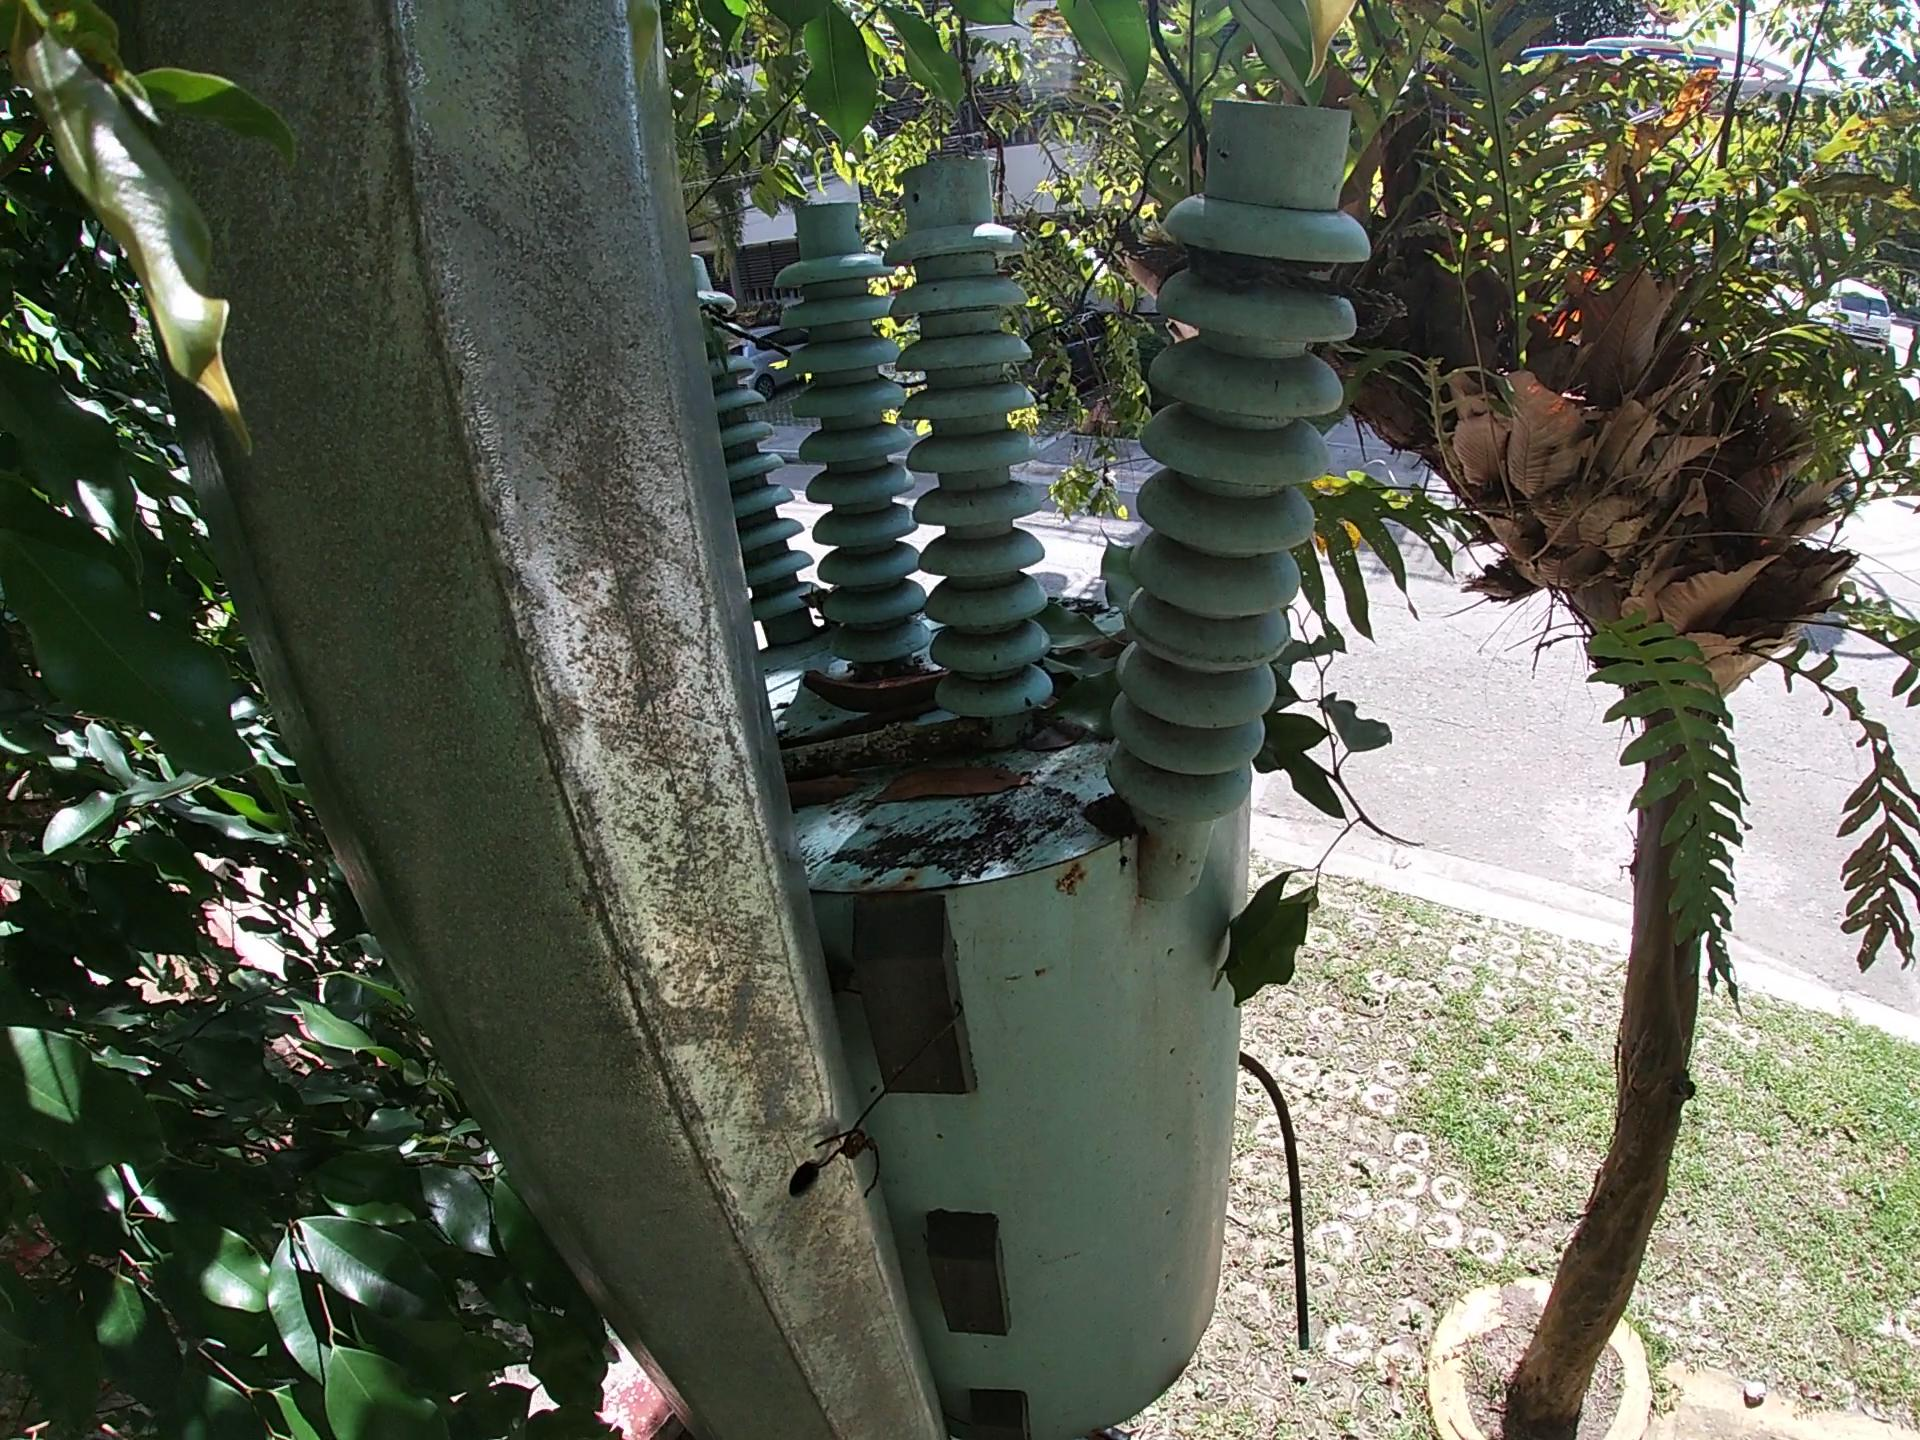branch with leaves: (1222, 593, 1403, 1024)
leaf: (1048, 529, 1157, 735), (881, 759, 1027, 818), (779, 774, 865, 803)
mahogany fruit: (801, 653, 940, 711)
tree branch: (766, 728, 980, 764)
